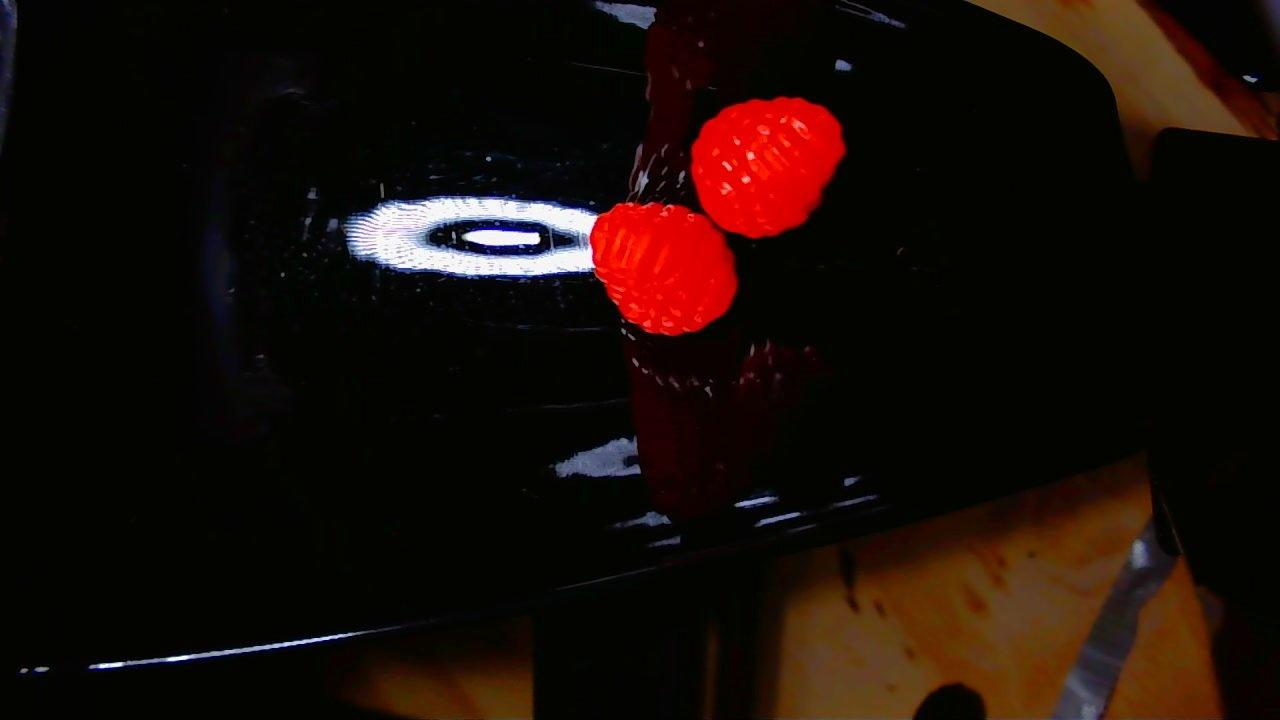berry: (690, 97, 845, 238), (589, 203, 737, 335)
